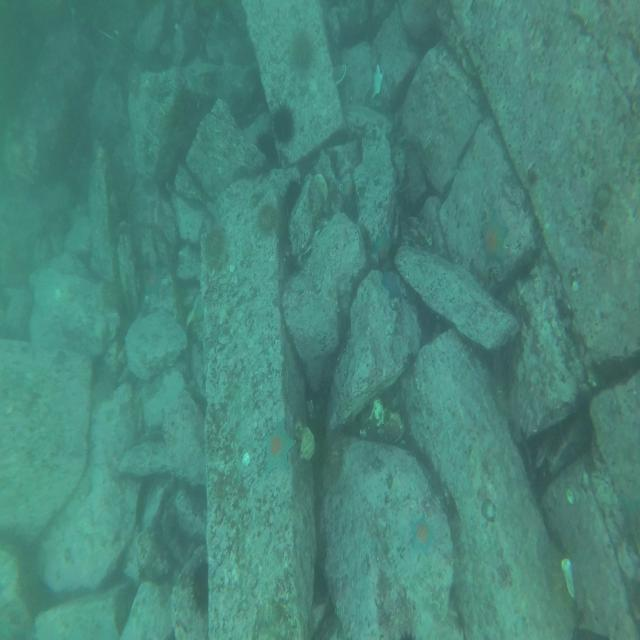echinus: (169, 85, 197, 135), (271, 102, 297, 146), (291, 26, 315, 72), (193, 562, 211, 611), (205, 218, 223, 263), (255, 203, 277, 233)
scallop: (297, 426, 317, 465)
starfish: (260, 427, 296, 478), (480, 215, 513, 268), (408, 508, 437, 558)
